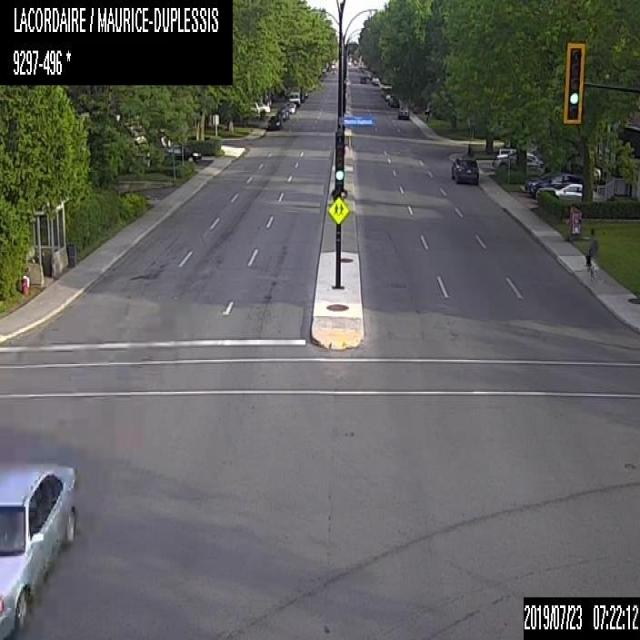pedestrian: (586, 224, 598, 284)
vehicle: (0, 456, 76, 638), (524, 170, 588, 193), (538, 179, 602, 201), (493, 150, 546, 172), (449, 156, 478, 184), (164, 144, 200, 162), (266, 113, 282, 128), (275, 105, 289, 120), (382, 84, 393, 100), (256, 102, 269, 115), (288, 91, 299, 105), (397, 105, 408, 119), (248, 100, 258, 115), (424, 102, 434, 116), (285, 101, 296, 112), (388, 96, 399, 107), (371, 74, 378, 84), (359, 73, 366, 83), (298, 91, 304, 101)
